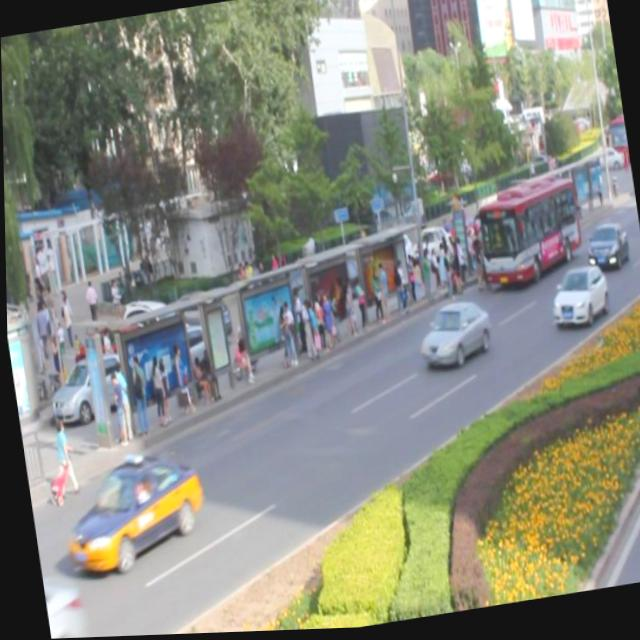car: (55, 447, 209, 580), (410, 299, 492, 374), (543, 264, 609, 333), (39, 569, 87, 639), (580, 221, 628, 276)
van: (465, 174, 581, 294)
